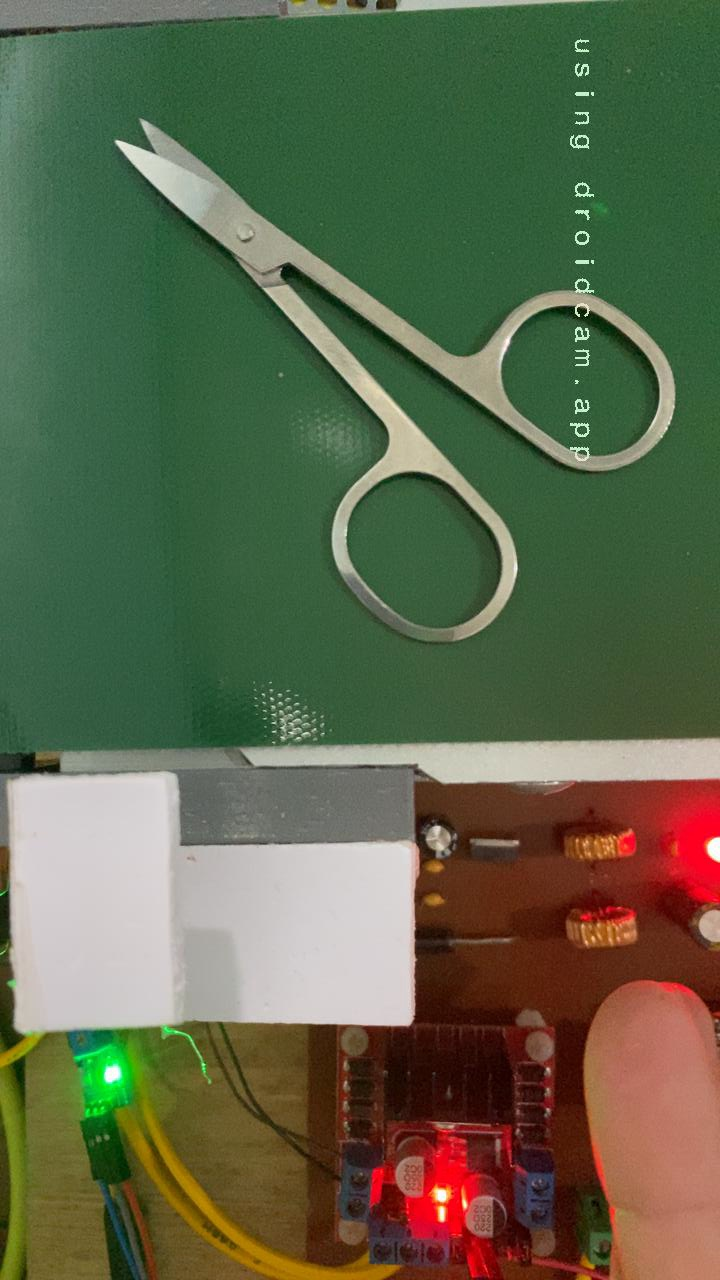scissor: (109, 114, 683, 649)
